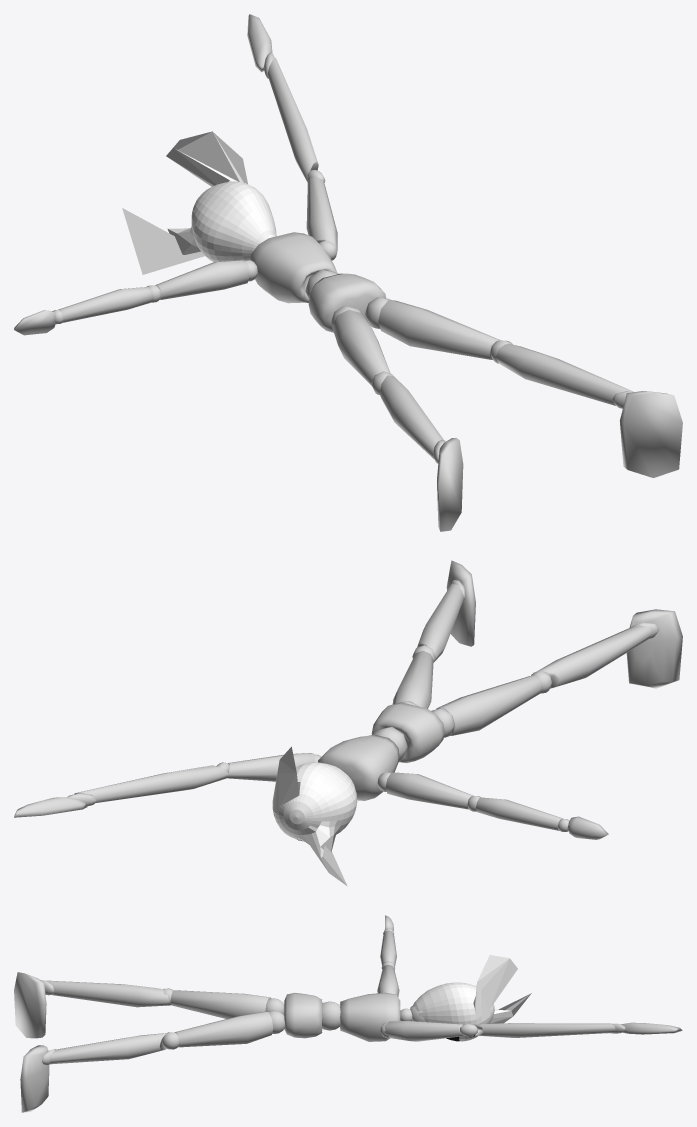
File: monster_2.glb
3 views of the same model, one above another, from view 1: azimuth 30°, elevation 25°; view 2: azimuth 150°, elevation 25°; view 3: azimuth 270°, elevation 25° (orthographic). The views are drawn at different scales.
Parts seen in each view (by area): view 1: Sphere.008, Sphere, Cylinder.003, Cylinder.001, Cylinder.002, Cylinder, Cylinder.006, Cylinder.009, Sphere.014, Cylinder.007, Cylinder.005, Cylinder.008 (+3 smaller); view 2: Sphere.008, Sphere.014, Cylinder.002, Cylinder.003, Cylinder.006, Cylinder.007, Cylinder.005, Cylinder.009, Cylinder.001, Cylinder, Sphere, Cylinder.008 (+3 smaller); view 3: Sphere.008, Cylinder.002, Cylinder.001, Cylinder.003, Cylinder.007, Cylinder, Cylinder.006, Sphere.014, Cylinder.005, Sphere, Cylinder.004, Sphere.009 (+2 smaller).
Part boxes in pixels (x1,y1,x2,y2): Sphere.008: (122,131,276,274); Sphere: (612,391,682,477); Cylinder.003: (244,232,337,303); Cylinder.001: (378,300,512,363); Cylinder.002: (305,269,391,332); Cylinder: (491,343,633,405); Cylinder.006: (332,309,393,394); Cylinder.009: (146,260,249,302); Sphere.014: (433,438,463,531); Cylinder.007: (379,375,443,459); Cylinder.005: (267,58,318,182); Cylinder.008: (58,287,152,322); Sphere.008: (272,746,357,886); Sphere.014: (626,609,682,688); Cylinder.002: (371,701,454,763); Cylinder.003: (314,734,399,800); Cylinder.006: (436,671,551,735); Cylinder.007: (536,625,652,688); Cylinder.005: (74,765,228,803); Cylinder.009: (385,772,481,811); Cylinder.001: (392,645,435,708); Cylinder: (417,583,463,661); Sphere: (446,560,475,646); Cylinder.008: (476,797,563,830); Sphere.008: (410,955,531,1041); Cylinder.002: (265,993,340,1038); Cylinder.001: (162,1011,273,1049); Cylinder.003: (340,992,412,1041); Cylinder.007: (46,980,169,1007); Cylinder: (49,1033,166,1064); Cylinder.006: (163,988,271,1018); Sphere.014: (14,972,54,1038); Cylinder.005: (473,1023,615,1037); Sphere: (20,1045,56,1112); Cylinder.004: (384,1021,477,1041); Sphere.009: (609,1022,682,1034).
Size of the model in its own units: 11.94 by 3.88 by 21.29.
Materials: 2 (1 with a texture image).
